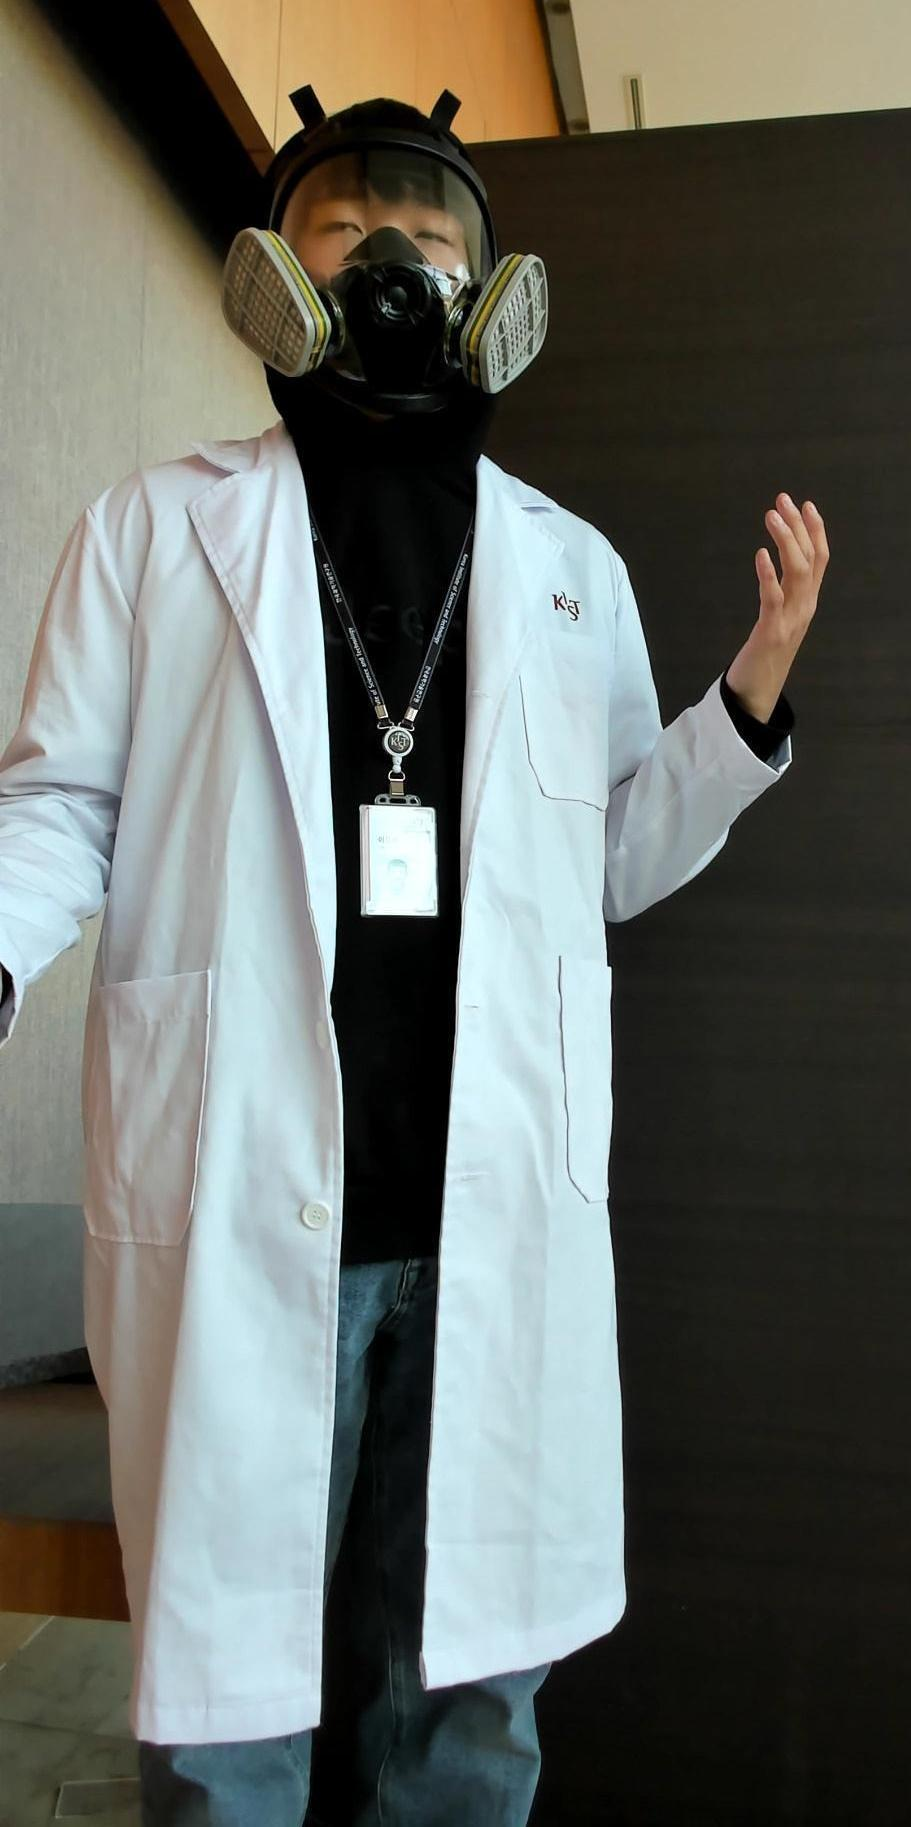lab_coat: (0, 433, 719, 1648)
